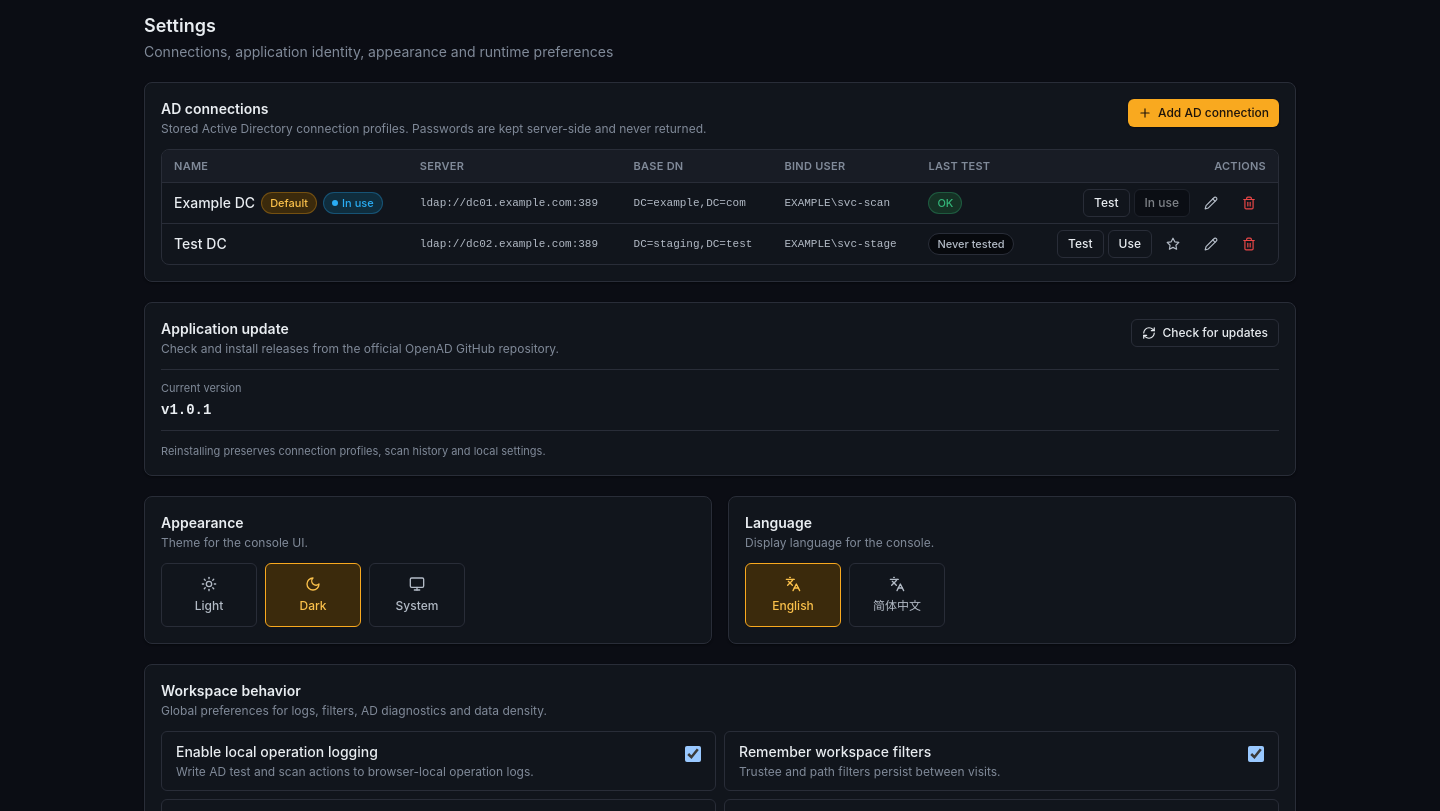
SettingsPage › runs a connection test and shows the inline result
Click the button "Test" in the row of "Example DC": coordinates (1106, 202) left=1083, top=188, right=1130, bottom=216
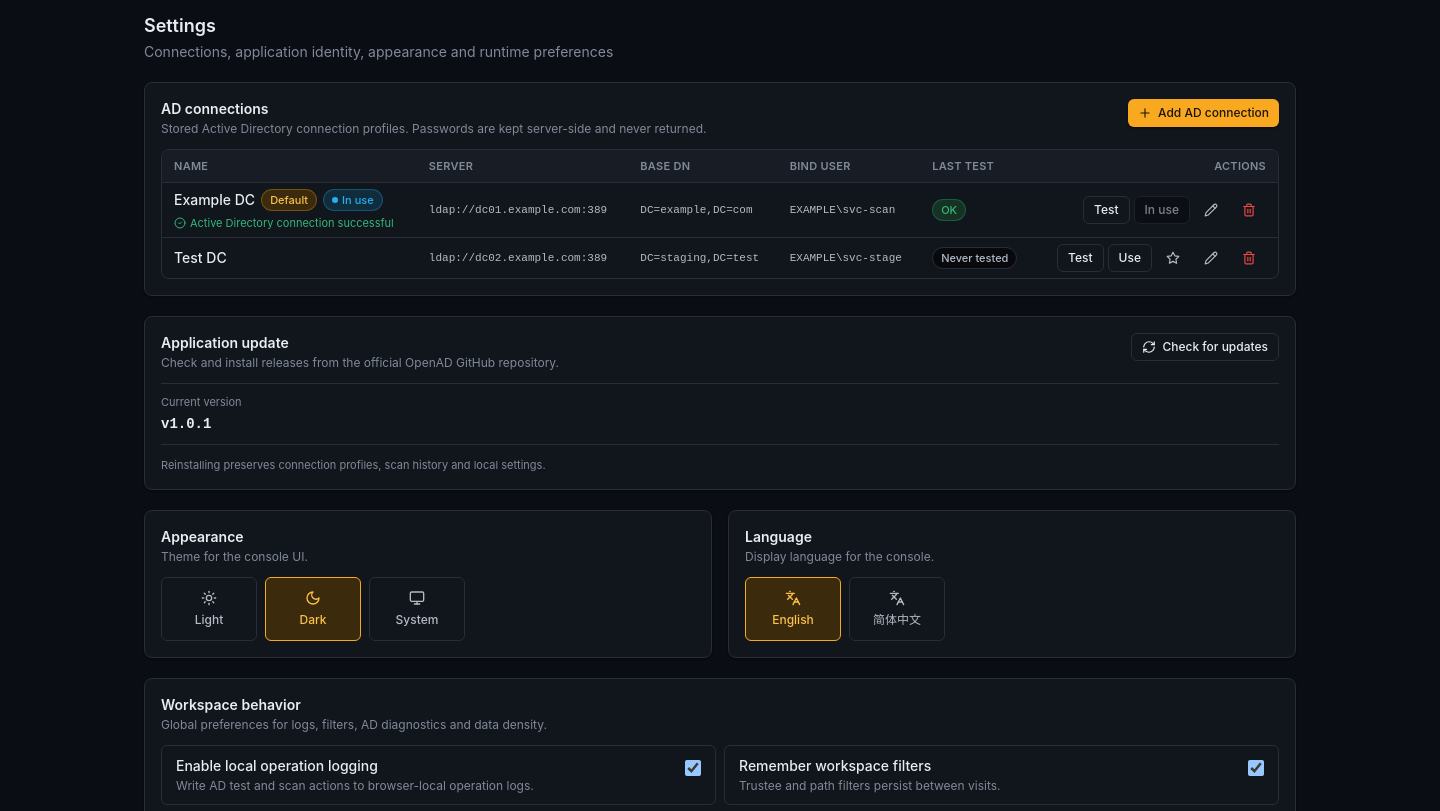
Now the text "Active Directory connection successful" is shown, box left=174, top=214, right=405, bottom=230
